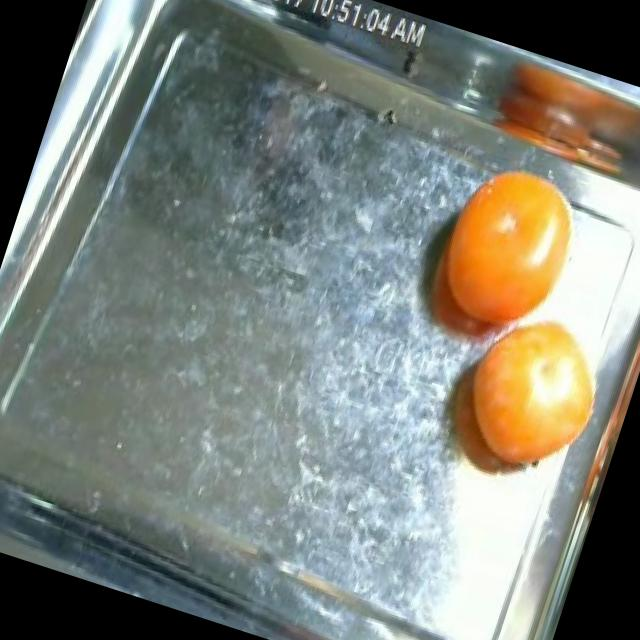Fruit: (412, 274, 640, 523), (399, 126, 613, 371)
